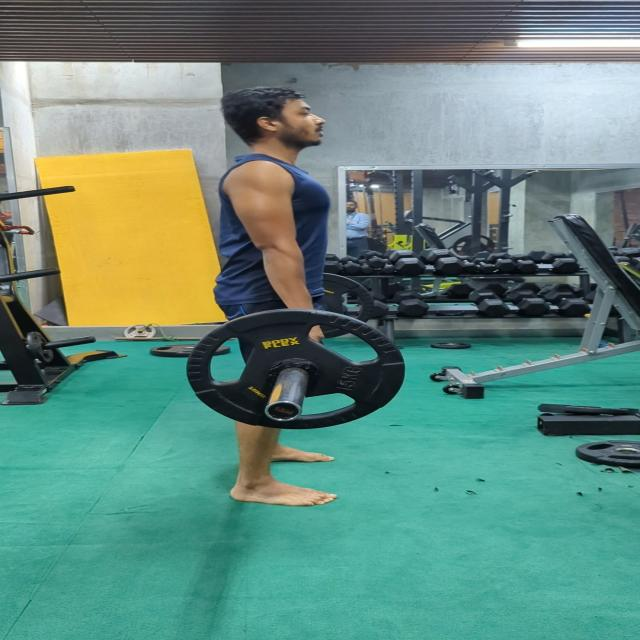Normal_Deadlifts: (210, 82, 348, 510)
